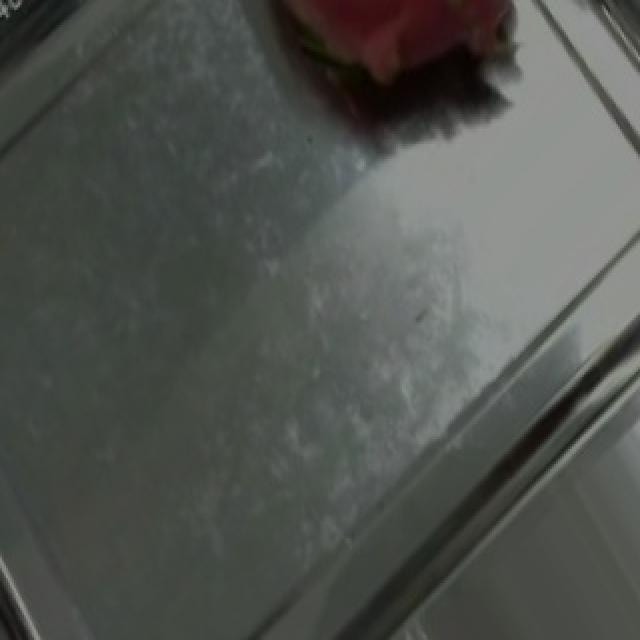fruit: (200, 0, 612, 196)
